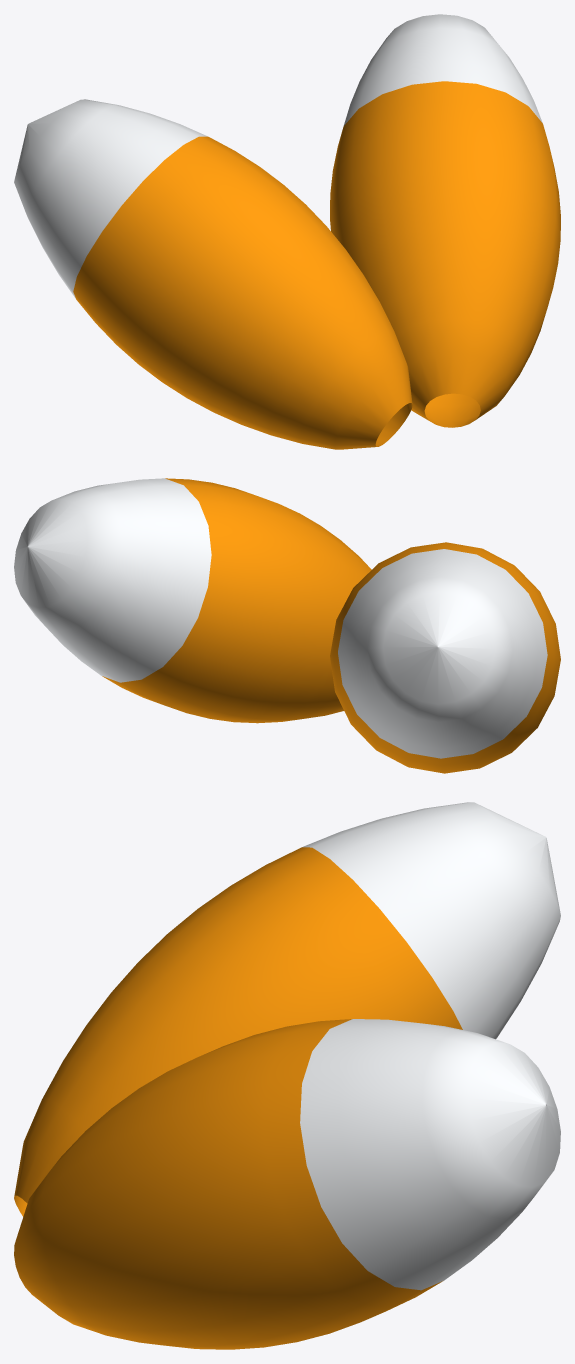
The model's file is tails-tails.obj.
The picture shows the model from 3 angles, top to bottom: view 1: azimuth 30°, elevation 25°; view 2: azimuth 150°, elevation 25°; view 3: azimuth 270°, elevation 25°; orthographic projection. The views are drawn at different scales.
Parts seen in each view (by area): view 1: twin_tails; view 2: twin_tails; view 3: twin_tails.
Part boxes in pixels (left/top/right/bottom): twin_tails: left=14, top=14, right=560, bottom=449; twin_tails: left=14, top=478, right=560, bottom=773; twin_tails: left=14, top=802, right=560, bottom=1349.
Bounding box in the file's own units: 1.97 × 1.06 × 1.45.
